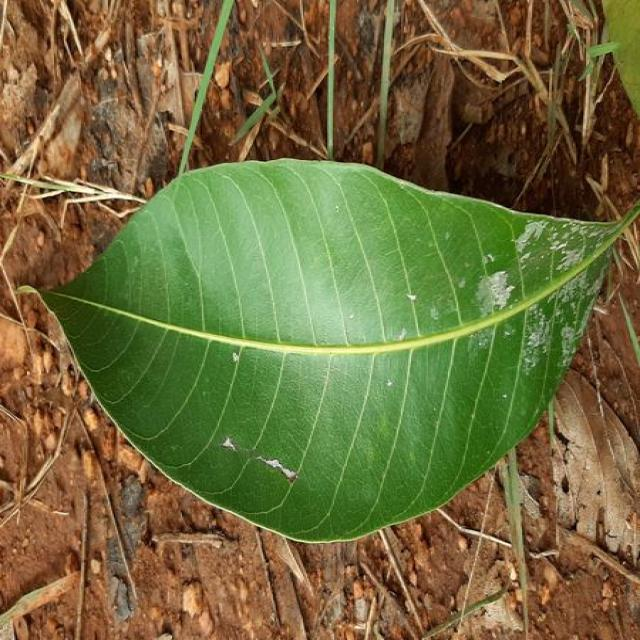Phoma blight: (385, 204, 615, 438)
mango: (42, 159, 634, 542), (43, 159, 623, 542)
